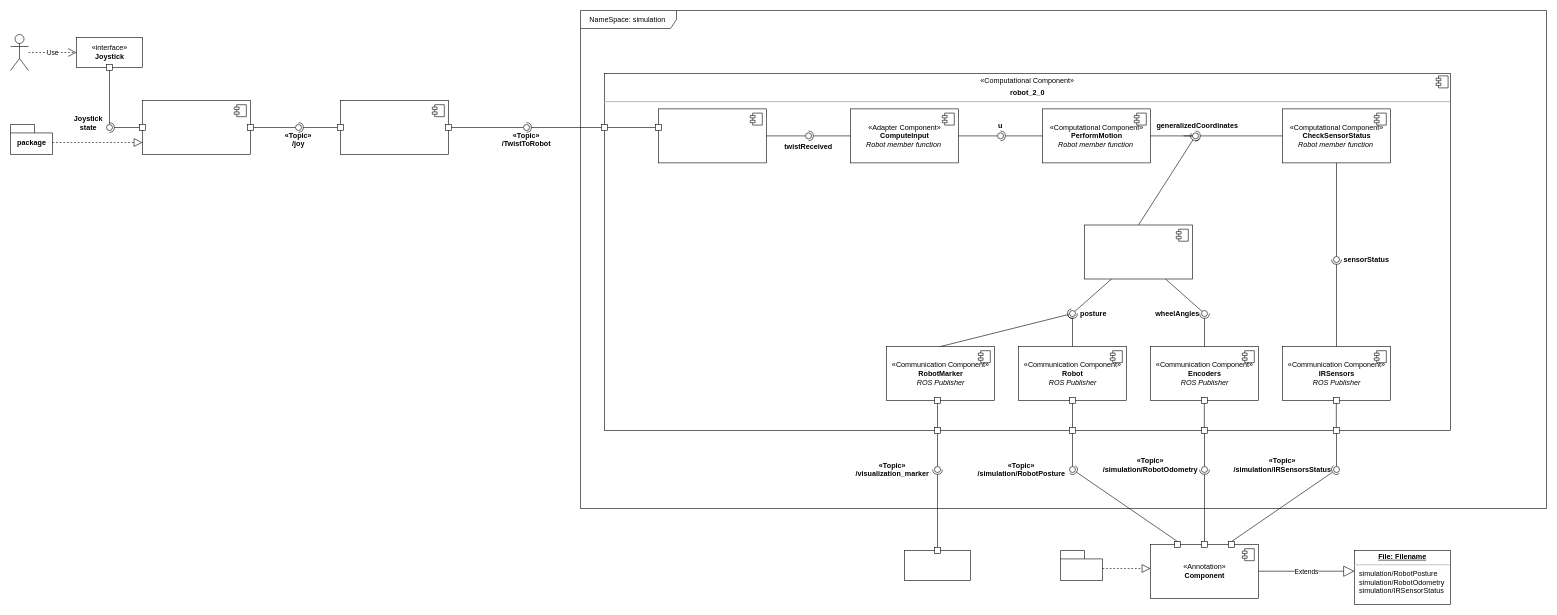
This 1557x615 diagram has some shape labels left out. Here are the shapes that lost their labels. From the top down, the centre of each, then its label:
(19,52): Actor
(196,127): «Computational Component» joy/joy_node
(394,127): «Adapter component» compute_twist
(712,135): «Communication Component» TwistReceived Subscriber function callback
(1138,251): «Adapter Component» PrepareMessages Robot member function
(937,565): «interface» rviz
(1081,565): rosbag
